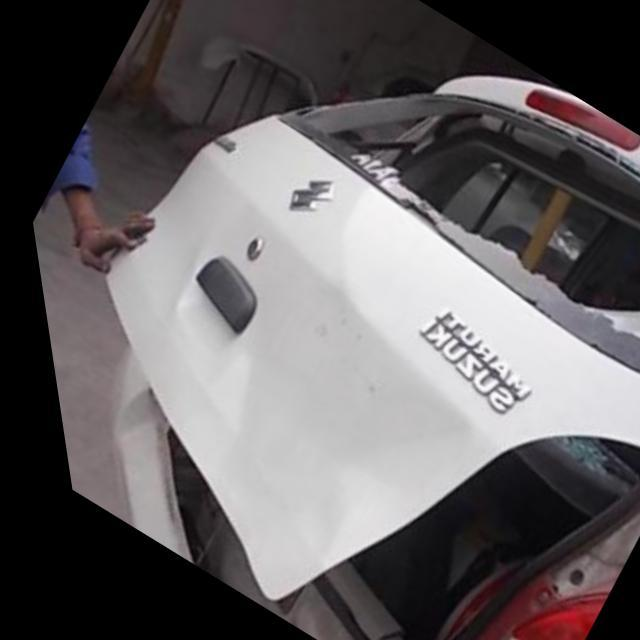dislocated part: (92, 377, 337, 640)
glass shatter: (283, 88, 640, 362)
